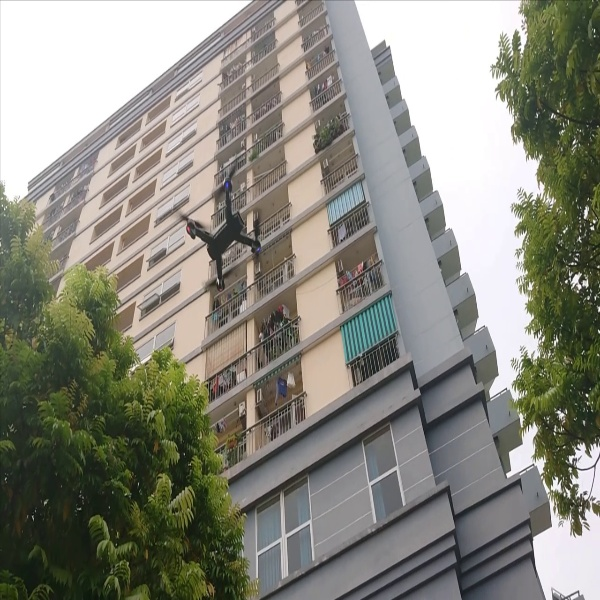drone: (171, 168, 268, 294)
